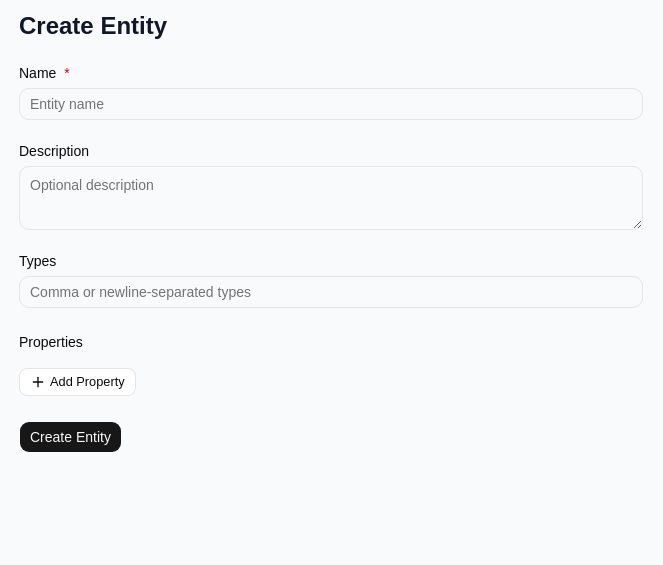
Test: CreateEntityPage › error handling › preserves form data after error
Type "My Entity" into the field with test id "entity-name-input". click: x=331, y=104
box: x1=19 y1=88 x2=643 y2=120
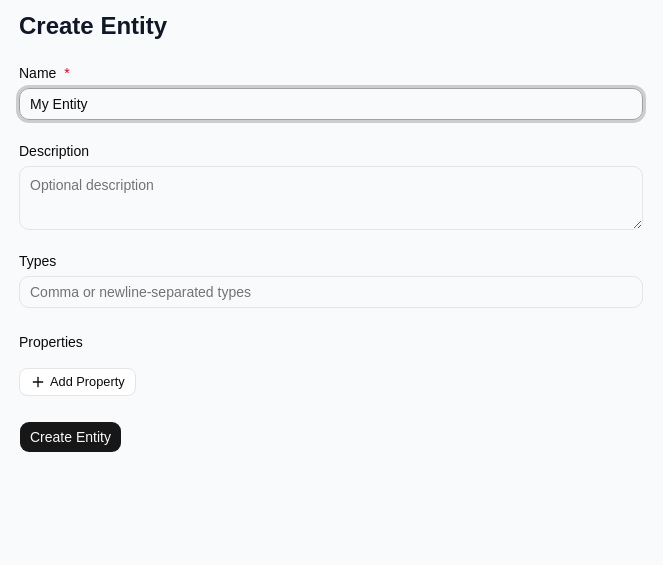
Type "Some description" into the text box with test id "entity-description-input". click: x=331, y=198
box: x1=19 y1=166 x2=643 y2=230
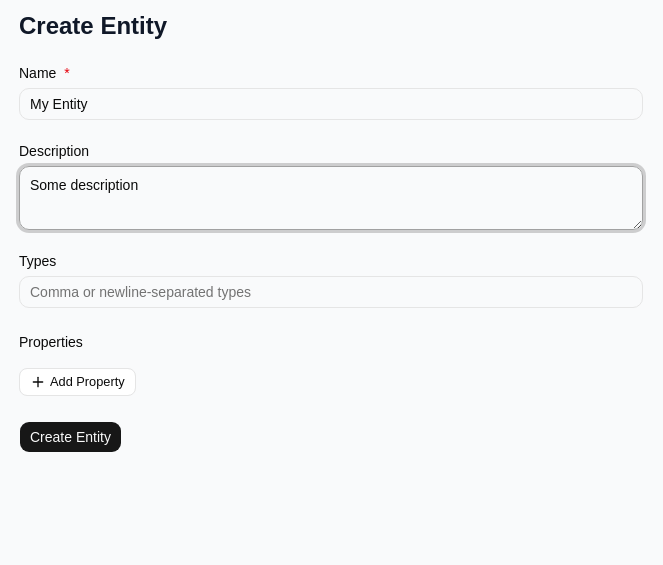
Click the button with test id "entity-submit". click: x=70, y=437
box: x1=19 y1=421 x2=122 y2=453
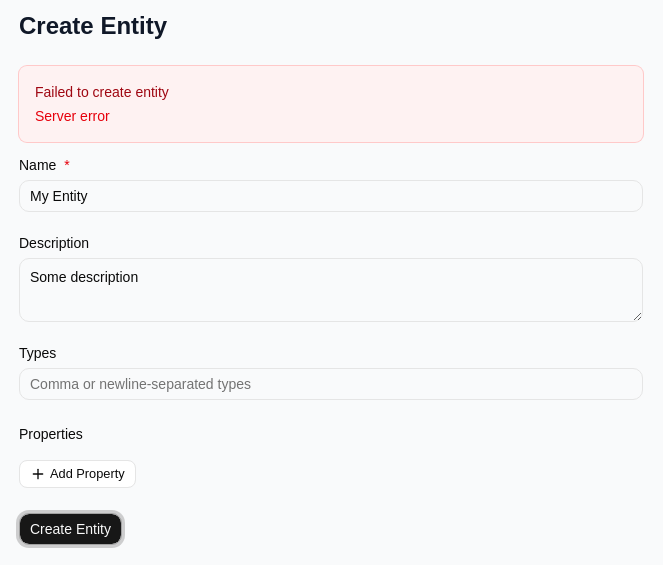
Expected: the element with test id "create-error" is shown, x1=19 y1=66 x2=643 y2=142
